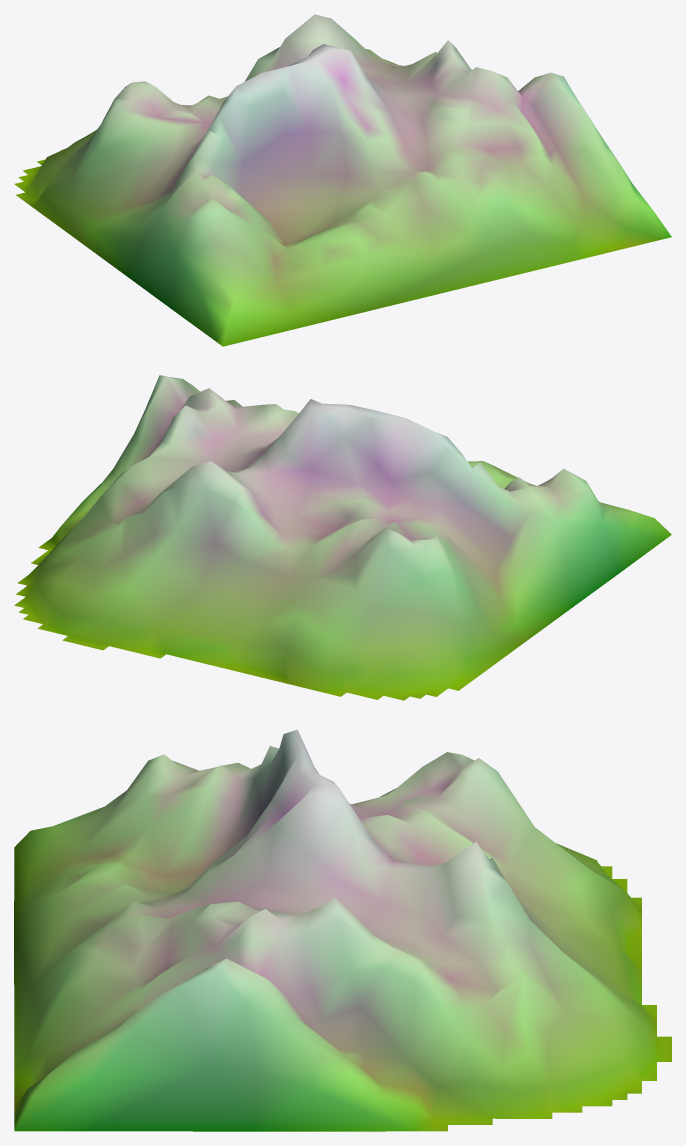
The model's file is mountain_c.glb.
3 views of the same model, one above another, from view 1: azimuth 30°, elevation 25°; view 2: azimuth 150°, elevation 25°; view 3: azimuth 270°, elevation 25° (orthographic). The views are drawn at different scales.
Parts seen in each view (by area): view 1: mountain_c; view 2: mountain_c; view 3: mountain_c.
Part boxes in pixels (x1=…): mountain_c: x1=14, y1=14, x2=671, y2=346; mountain_c: x1=14, y1=375, x2=671, y2=700; mountain_c: x1=14, y1=729, x2=671, y2=1131.
Bounding box in the file's own units: 1 × 0.3355 × 0.9784.
